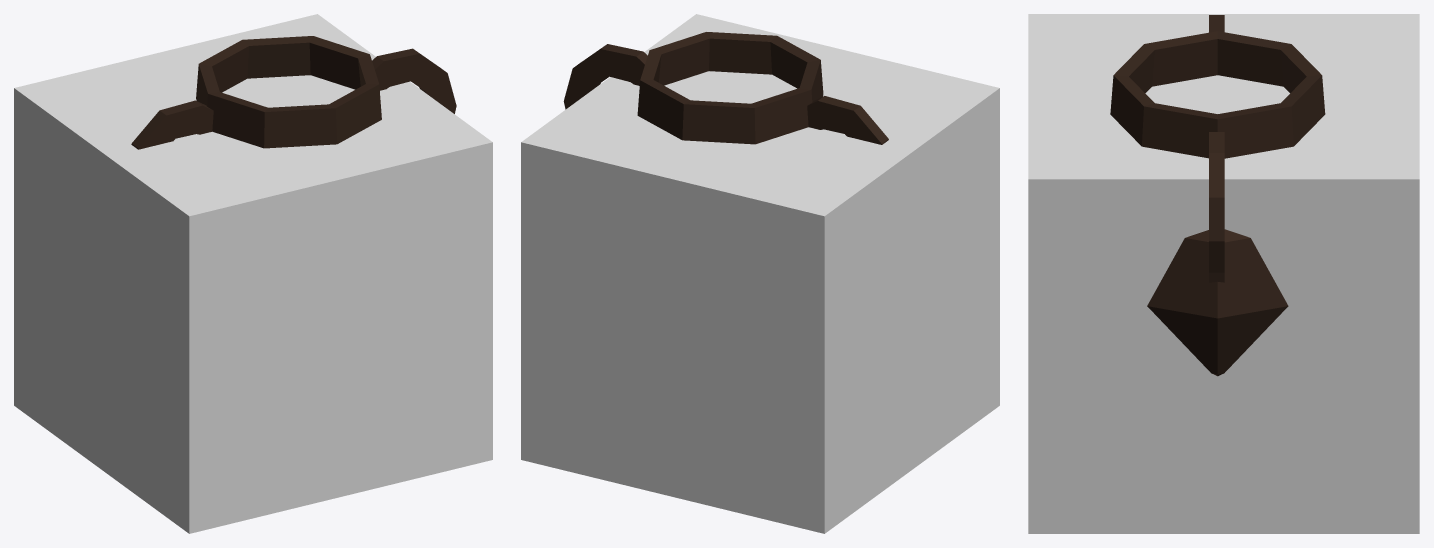
The model's file is pot_clay_1.glb.
The picture shows the model from 3 angles, left to right: view 1: azimuth 30°, elevation 25°; view 2: azimuth 150°, elevation 25°; view 3: azimuth 270°, elevation 25°; orthographic projection. The views are drawn at different scales.
Visible parts, largest first — view 1: Cube, Pot_01; view 2: Cube, Pot_01; view 3: Cube, Pot_01.
Part boxes in pixels (x1=…): Cube: x1=14, y1=14, x2=492, y2=533; Pot_01: x1=131, y1=36, x2=456, y2=149; Cube: x1=521, y1=14, x2=999, y2=533; Pot_01: x1=563, y1=32, x2=888, y2=144; Cube: x1=1028, y1=14, x2=1419, y2=533; Pot_01: x1=1110, y1=15, x2=1325, y2=376.
Size of the model in its own units: 0.3651 by 0.3534 by 0.3182.
1 material, 1 textured.
